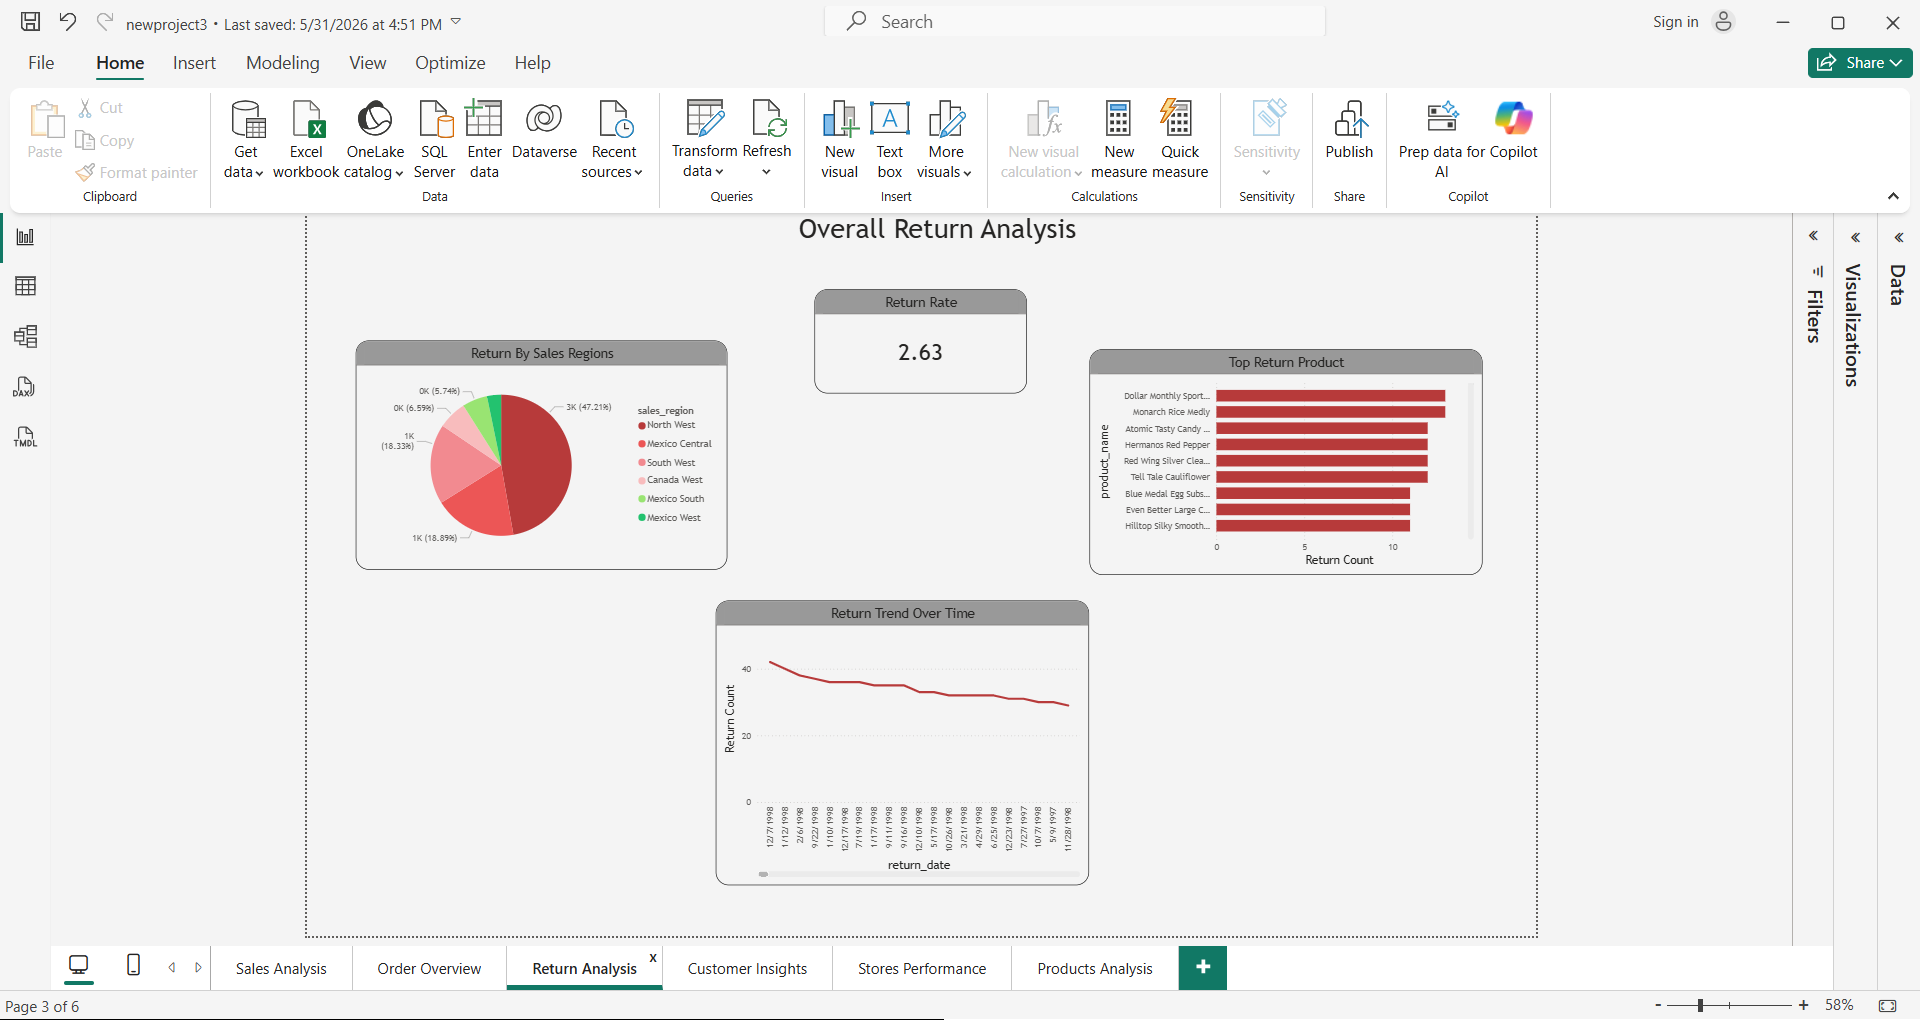

Layout of this report page (visuals, bound fields, positions):
{"tool":"powerbi","page":{"name":"Return Analysis","canvas":[1700,1000],"ordinal":2},"visuals":[{"type":"card","title":"Return  Rate ","fields":{"Values":["Transaction1997.Return Rate %"]},"box":[701.7,105.7,293.4,144],"z":0},{"type":"clusteredBarChart","title":"Top Return Product ","fields":{"Category":["Products.product_name"],"Y":["Transaction1997.Return Count"]},"box":[1080.7,187.7,543.1,311.6],"z":1000},{"type":"pieChart","title":"Return By Sales Regions ","fields":{"Category":["Regions.sales_region"],"Y":["Transaction1997.Return Count"]},"box":[67.4,176.8,513.9,317.1],"z":2000},{"type":"lineChart","title":"Return Trend Over Time ","fields":{"Category":["Returns.return_date"],"Y":["Transaction1997.Return Count"]},"box":[565,535.8,515.8,393.7],"z":3000},{"type":"textbox","title":"Overall Return Analysis ","box":[544.9,0,654.3,78.4],"z":4000}]}

Visuals, with their boxes on the page's 1700x1000 design canvas (x1, y1, x2, y2). These are canvas units, not pixel positions in the 1920x1020 screenshot, which may show the page scaled, cropped or inside an application window:
"Return  Rate " card: pyautogui.locateOnScreen(702, 106, 995, 250)
"Top Return Product " clusteredBarChart: pyautogui.locateOnScreen(1081, 188, 1624, 499)
"Return By Sales Regions " pieChart: pyautogui.locateOnScreen(67, 177, 581, 494)
"Return Trend Over Time " lineChart: pyautogui.locateOnScreen(565, 536, 1081, 930)
"Overall Return Analysis " textbox: pyautogui.locateOnScreen(545, 0, 1199, 78)
